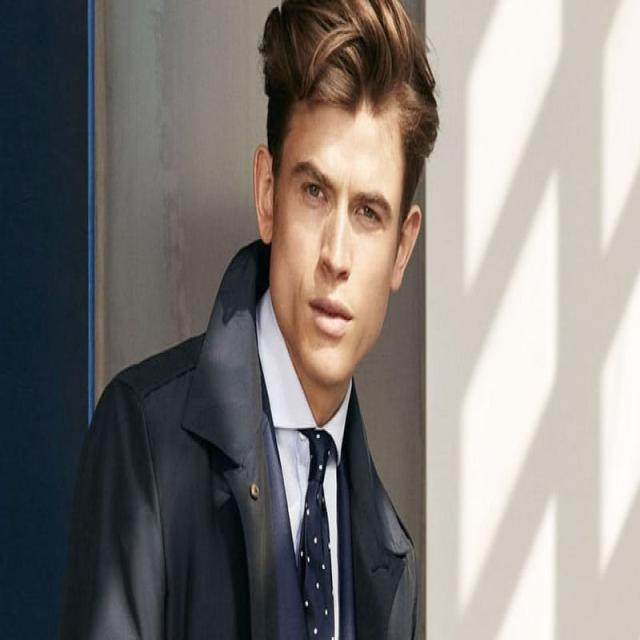human: (55, 0, 447, 640)
